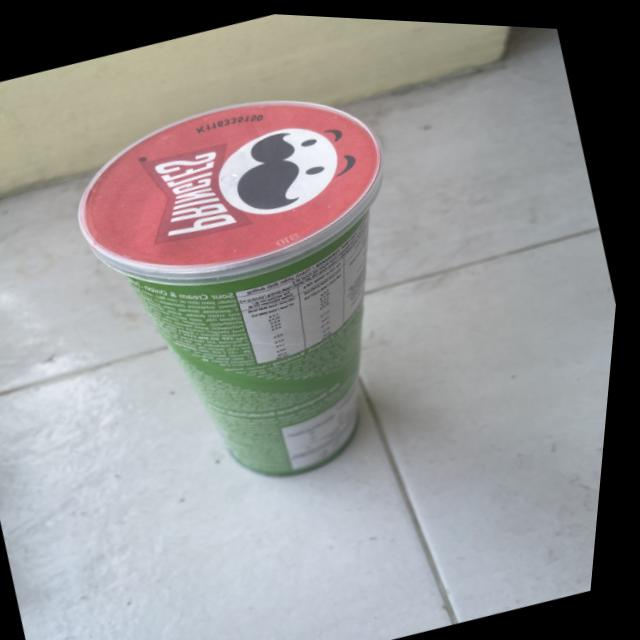a pringles: (32, 43, 489, 532)
